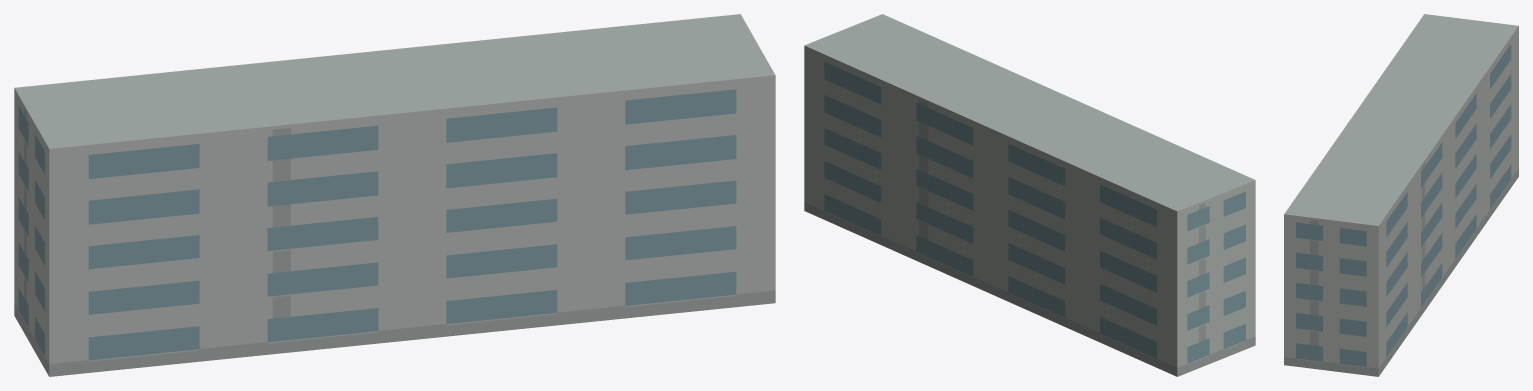
Rendered from residential-f0882aea-8456-461c-b4cb-1aacfafcd2f3.glb.
3 views of the same model, side by side, from view 1: azimuth 30°, elevation 25°; view 2: azimuth 150°, elevation 25°; view 3: azimuth 270°, elevation 25° (orthographic). The views are drawn at different scales.
Parts seen in each view (by area): view 1: residential-f0882aea-8456-461c-b4cb-1aacfafcd2f3.tmp; view 2: residential-f0882aea-8456-461c-b4cb-1aacfafcd2f3.tmp; view 3: residential-f0882aea-8456-461c-b4cb-1aacfafcd2f3.tmp.
Boxes of the visible parts, x1,y1,x2,y2 form: residential-f0882aea-8456-461c-b4cb-1aacfafcd2f3.tmp: [14, 14, 775, 376]; residential-f0882aea-8456-461c-b4cb-1aacfafcd2f3.tmp: [804, 14, 1255, 376]; residential-f0882aea-8456-461c-b4cb-1aacfafcd2f3.tmp: [1284, 14, 1518, 376].
Size of the model in its own units: 48.25 by 16 by 22.58.
